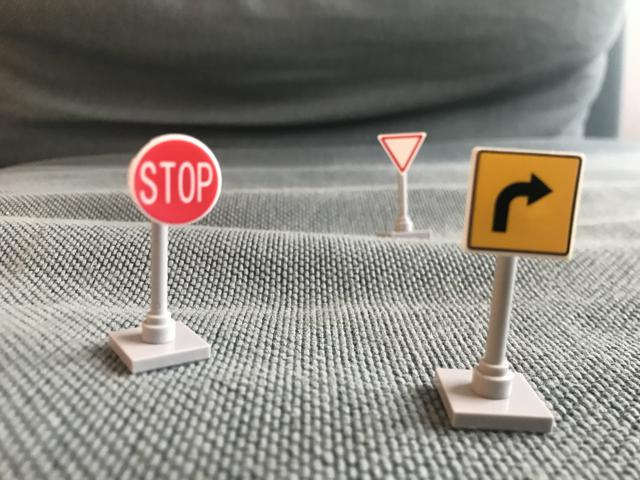fahrtrichtung rechts: (460, 146, 588, 258)
stop: (128, 130, 225, 227)
vorfahrt gewähren: (374, 127, 427, 177)
